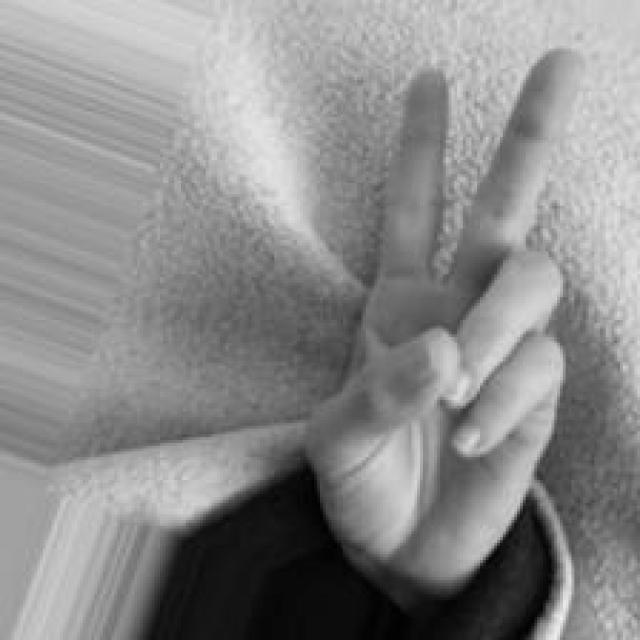V: (306, 47, 590, 592)
